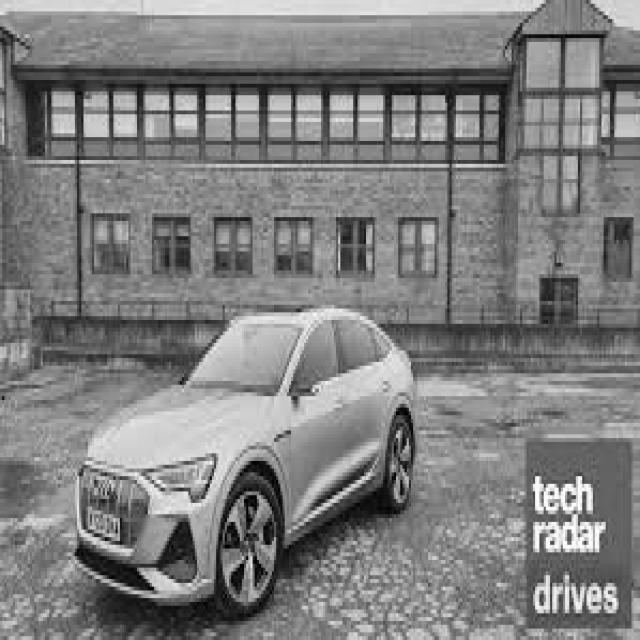Car: (75, 311, 417, 614)
